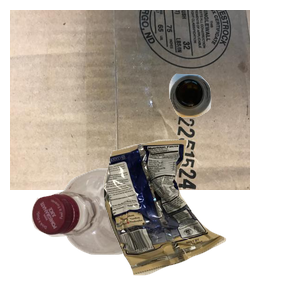cardboard: (10, 10, 250, 190)
glass: (166, 71, 300, 181)
plastic: (29, 166, 183, 300)
trash: (101, 137, 300, 300)
